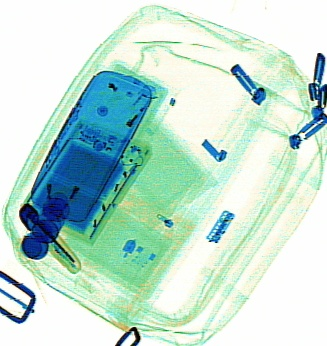lighter: (42, 151, 98, 226), (100, 85, 156, 148), (36, 142, 64, 225)
